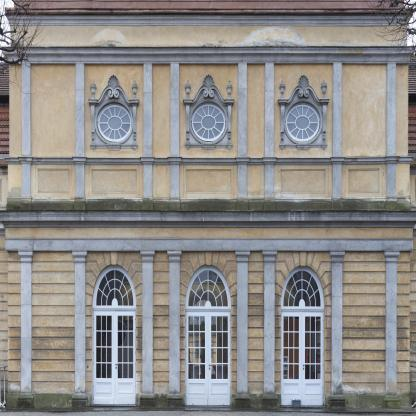Building Outline: (0, 0, 416, 408)
Cornice: (88, 74, 140, 141), (277, 75, 330, 140), (183, 74, 234, 140)
Door: (185, 309, 231, 406), (281, 309, 325, 406), (93, 308, 136, 405)
Facade: (1, 1, 416, 409)
Floor Slab: (6, 210, 413, 228)
Ground Floor: (6, 227, 413, 408)
Molding: (1, 46, 416, 65), (0, 210, 416, 228), (7, 15, 411, 27), (3, 155, 414, 164)
Pillar: (261, 250, 278, 409), (329, 250, 346, 409), (17, 250, 34, 409), (234, 250, 251, 407), (383, 251, 400, 408), (71, 250, 88, 407), (139, 250, 155, 408), (166, 250, 182, 407), (387, 63, 396, 197), (22, 63, 31, 197), (76, 63, 85, 197), (144, 63, 153, 197), (171, 63, 180, 197), (238, 63, 247, 197), (265, 63, 274, 197), (333, 63, 342, 197)
Roof: (5, 0, 414, 19)
Sill: (201, 143, 216, 150), (106, 144, 121, 150), (296, 144, 310, 150)
Top Floor: (9, 27, 408, 210)
Window: (185, 264, 231, 309), (281, 265, 325, 310), (92, 265, 136, 308)
